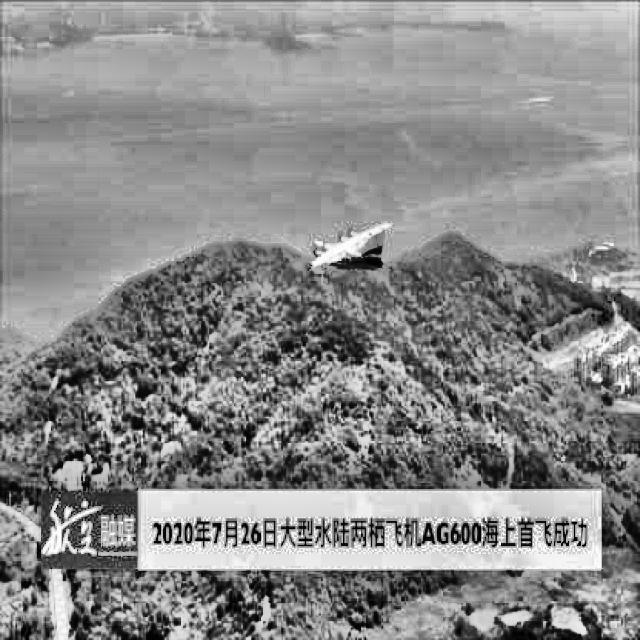AG600: (309, 222, 393, 276)
